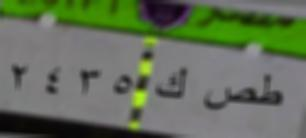2: (7, 55, 34, 97)
3: (78, 65, 105, 102)
4: (38, 62, 69, 100)
5: (111, 66, 136, 100)
Taa: (259, 69, 290, 112)
kaaf: (152, 59, 195, 105)
saad: (199, 79, 256, 120)
